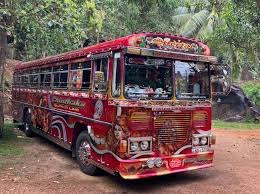bus: (10, 36, 218, 182)
